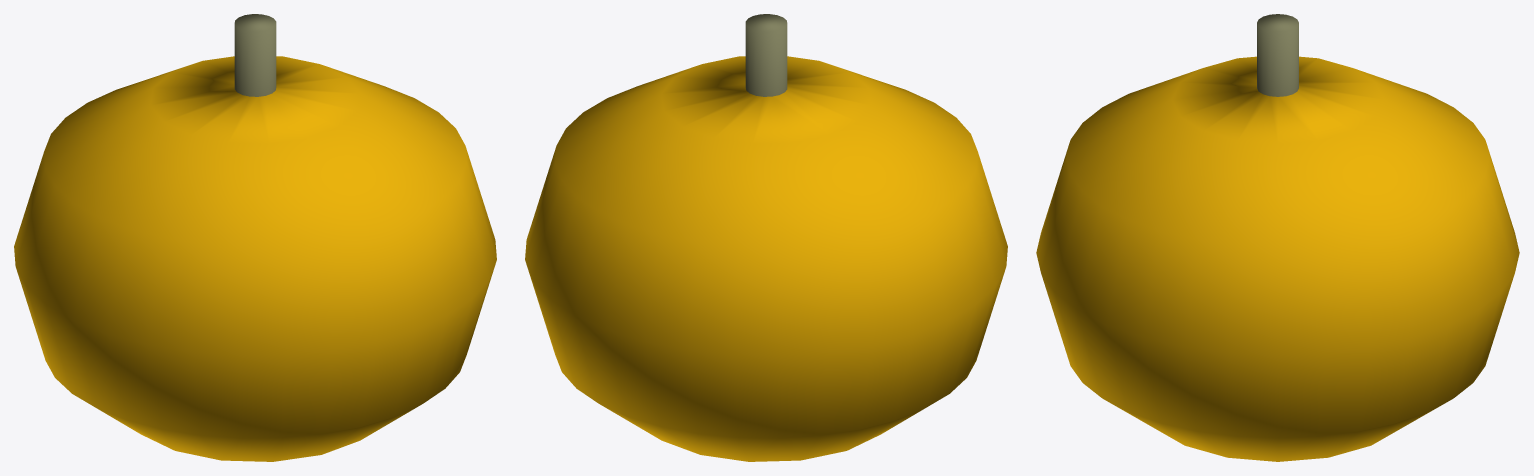
File: pumpkin.glb
3 renders of one model, left to right at view 1: azimuth 30°, elevation 25°; view 2: azimuth 150°, elevation 25°; view 3: azimuth 270°, elevation 25°, orthographic.
Visible parts, largest first — view 1: pumpkin; view 2: pumpkin; view 3: pumpkin.
Boxes of the visible parts, x1,y1,x2,y2 form: pumpkin: [14, 14, 496, 461]; pumpkin: [525, 14, 1007, 461]; pumpkin: [1036, 14, 1519, 461].
Bounding box in the file's own units: 2.29 × 2 × 2.29.
